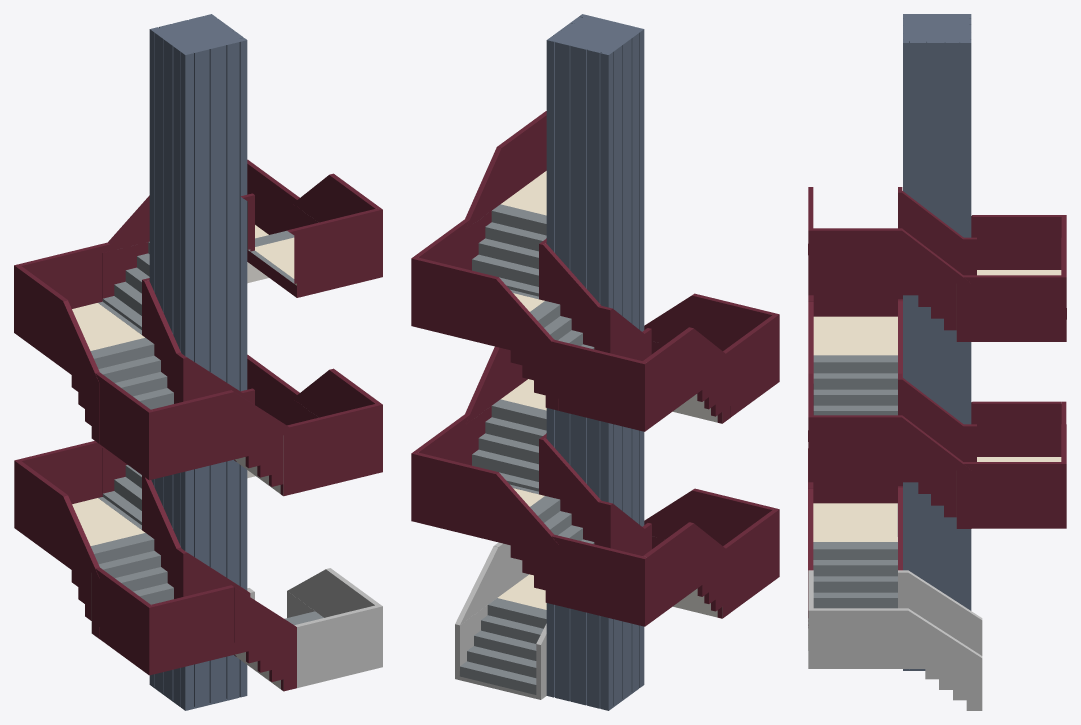
The model's file is ESCALERAS.fbx.
The picture shows the model from 3 angles, left to right: view 1: azimuth 30°, elevation 25°; view 2: azimuth 150°, elevation 25°; view 3: azimuth 270°, elevation 25°; orthographic projection. The views are drawn at different scales.
Visible parts, largest first — view 1: Cube, Baranda.001, Baranda.005, Baranda.006, Baranda.002, Baranda.008, Baranda.004, Baranda, Baranda.007, Gradas.006, Gradas.002, Baranda.003 (+5 smaller); view 2: Cube, Baranda.003, Baranda.007, Baranda.002, Baranda.006, Baranda.001, Baranda.005, Gradas, Baranda.008, Gradas.004, Gradas.008, Baranda (+6 smaller); view 3: Cube, Baranda.004, Baranda, Baranda.008, Baranda.007, Baranda.003, Gradas.001, Gradas.005, Baranda.002, Baranda.006, Piso.005, Piso.001 (+4 smaller).
Boxes of the visible parts, x1,y1,x2,y2 form: Cube: (149, 14, 247, 710); Baranda.001: (95, 547, 296, 691); Baranda.005: (95, 352, 296, 496); Baranda.006: (14, 242, 180, 443); Baranda.002: (14, 441, 180, 638); Baranda.008: (240, 173, 382, 297); Baranda.004: (240, 368, 382, 492); Baranda: (247, 568, 382, 688); Baranda.007: (102, 159, 299, 298); Gradas.006: (90, 337, 173, 409); Gradas.002: (91, 533, 173, 604); Baranda.003: (102, 354, 299, 496); Cube: (546, 14, 644, 710); Baranda.003: (411, 414, 605, 605); Baranda.007: (411, 219, 605, 410); Baranda.002: (552, 500, 730, 626); Baranda.006: (551, 305, 729, 431); Baranda.001: (642, 488, 779, 612); Baranda.005: (642, 293, 779, 417); Gradas: (459, 598, 546, 694); Baranda.008: (465, 111, 546, 270); Gradas.004: (472, 399, 546, 491); Gradas.008: (472, 204, 546, 296); Baranda: (455, 542, 546, 699); Cube: (903, 14, 971, 670); Baranda.004: (808, 373, 971, 528); Baranda: (808, 570, 982, 710); Baranda.008: (808, 187, 971, 341); Baranda.007: (963, 237, 1066, 341); Baranda.003: (963, 424, 1066, 528); Gradas.001: (813, 542, 897, 608); Gradas.005: (813, 355, 897, 415); Baranda.002: (971, 401, 1066, 456); Baranda.006: (971, 215, 1066, 319); Piso.005: (813, 316, 897, 355); Piso.001: (813, 503, 897, 541).
Size of the model in its own units: 490 by 1313 by 491.
